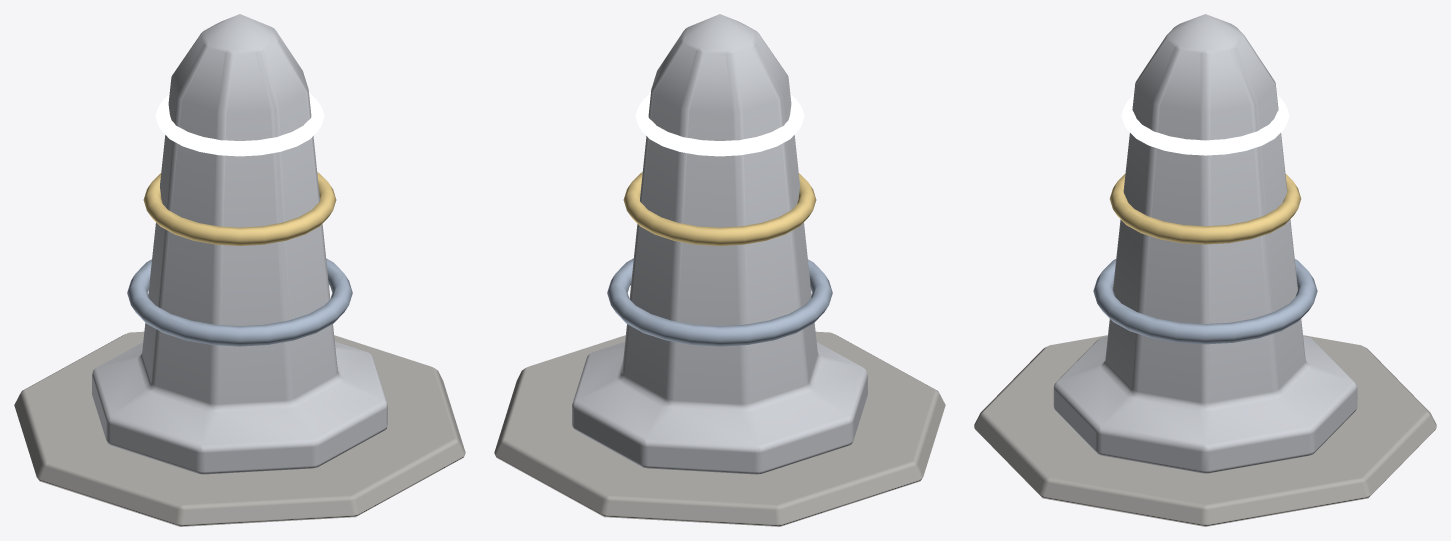
The model's file is prosperity.glb.
3 renders of one model, left to right at view 1: azimuth 30°, elevation 25°; view 2: azimuth 150°, elevation 25°; view 3: azimuth 270°, elevation 25°, orthographic.
Parts seen in each view (by area): view 1: prosperity; view 2: prosperity; view 3: prosperity.
Part boxes in pixels (x1,y1,x2,y2): prosperity: (14,14,465,526); prosperity: (494,14,945,526); prosperity: (974,14,1436,526).
Bounding box in the file's own units: 0.907 × 0.9 × 0.907.
